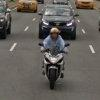Motorcycle: (33, 25, 76, 93)
